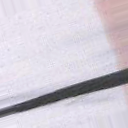crackTip: (1, 70, 128, 115)
